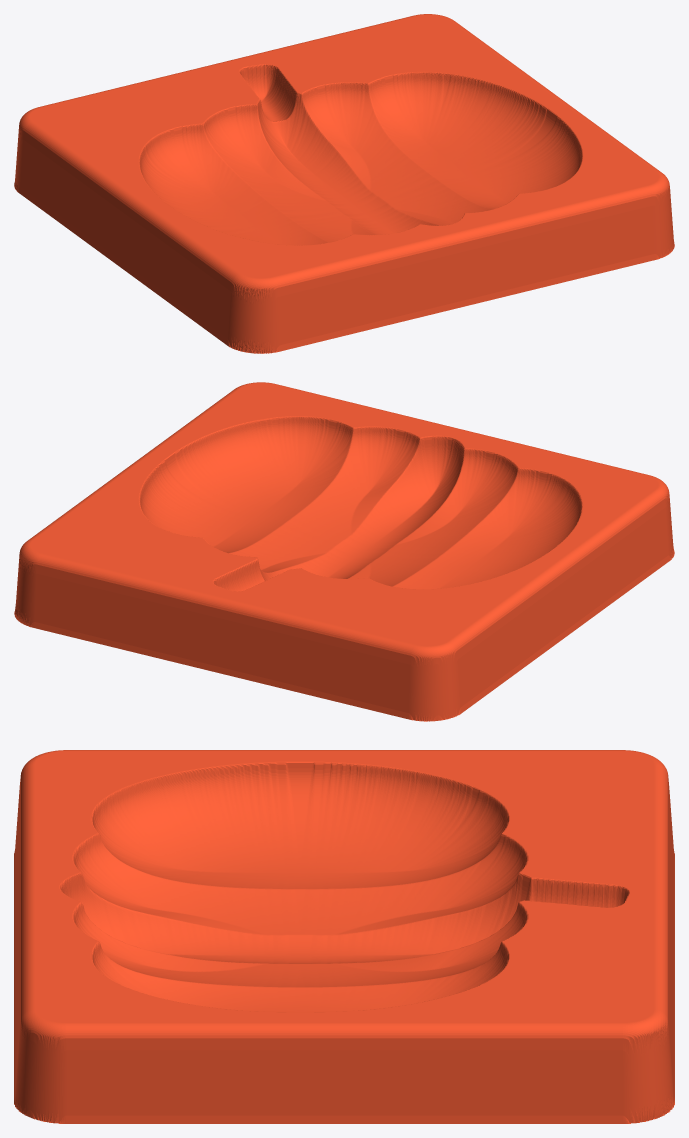
The model's file is mold.glb.
3 views of the same model, one above another, from view 1: azimuth 30°, elevation 25°; view 2: azimuth 150°, elevation 25°; view 3: azimuth 270°, elevation 25° (orthographic). The views are drawn at different scales.
Visible parts, largest first — view 1: geometry_0; view 2: geometry_0; view 3: geometry_0.
Boxes of the visible parts, x1=… form: geometry_0: x1=14, y1=14, x2=674, y2=353; geometry_0: x1=14, y1=382, x2=674, y2=721; geometry_0: x1=14, y1=750, x2=674, y2=1123.
Size of the model in its own units: 0.1178 by 0.0175 by 0.1138.
